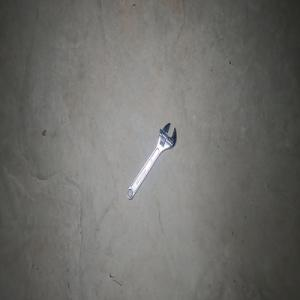Wrench: (126, 122, 176, 199)
